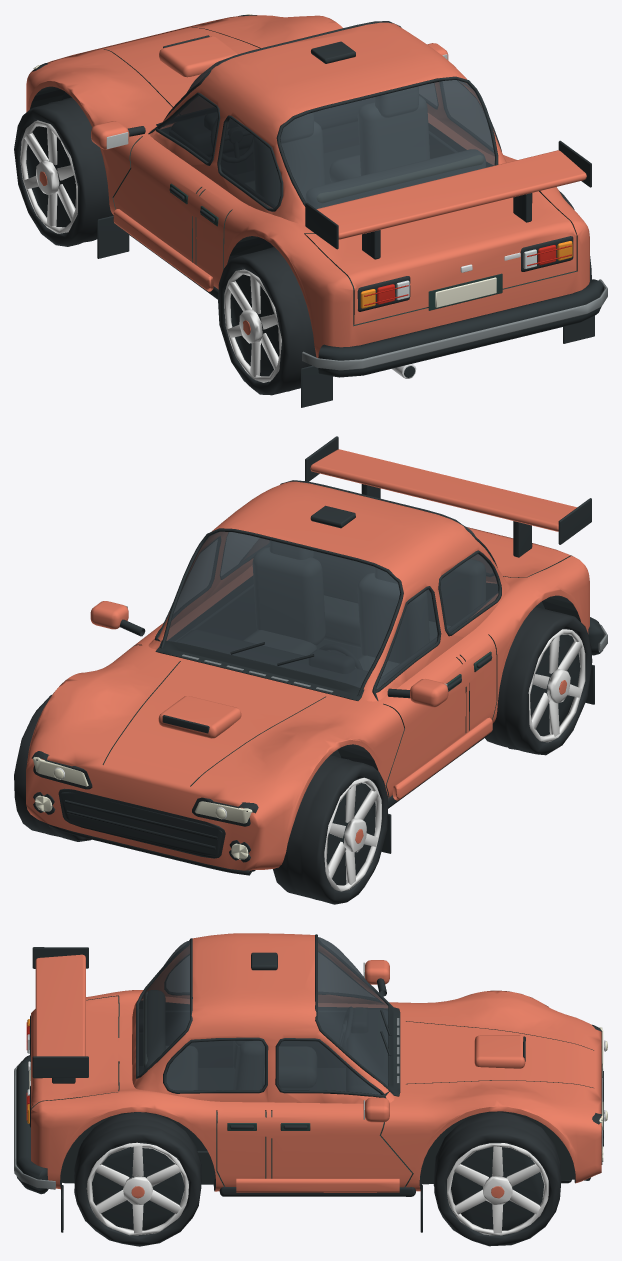
File: kumo_lod2.fbx
3 views of the same model, one above another, from view 1: azimuth 30°, elevation 25°; view 2: azimuth 150°, elevation 25°; view 3: azimuth 270°, elevation 25° (orthographic). The views are drawn at different scales.
Visible parts, largest first — view 1: Body, Wheel_FL_Mesh, Wheel_RL_Mesh; view 2: Body, Wheel_FL_Mesh, Wheel_RL_Mesh, Wheel_FR_Mesh; view 3: Body, Wheel_RR_Mesh, Wheel_FR_Mesh.
Part boxes in pixels (x1=…): Body: x1=26, y1=14, x2=607, y2=407; Wheel_FL_Mesh: x1=14, y1=97, x2=113, y2=246; Wheel_RL_Mesh: x1=218, y1=247, x2=316, y2=395; Body: x1=26, y1=436, x2=607, y2=875; Wheel_FL_Mesh: x1=273, y1=755, x2=387, y2=904; Wheel_RL_Mesh: x1=485, y1=607, x2=592, y2=755; Wheel_FR_Mesh: x1=14, y1=695, x2=91, y2=841; Body: x1=14, y1=933, x2=607, y2=1232; Wheel_RR_Mesh: x1=74, y1=1112, x2=201, y2=1246; Wheel_FR_Mesh: x1=433, y1=1112, x2=561, y2=1246.
Bounding box in the file's own units: 239 × 166 × 400.
